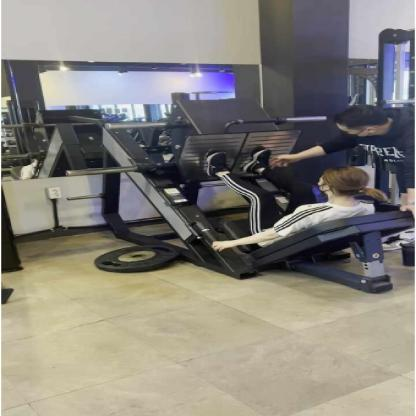leg press: (60, 80, 416, 299)
